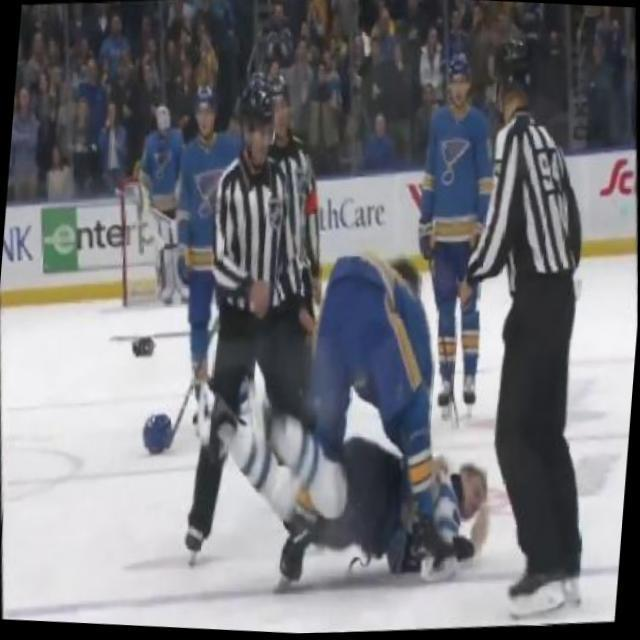fight: (269, 230, 517, 609)
